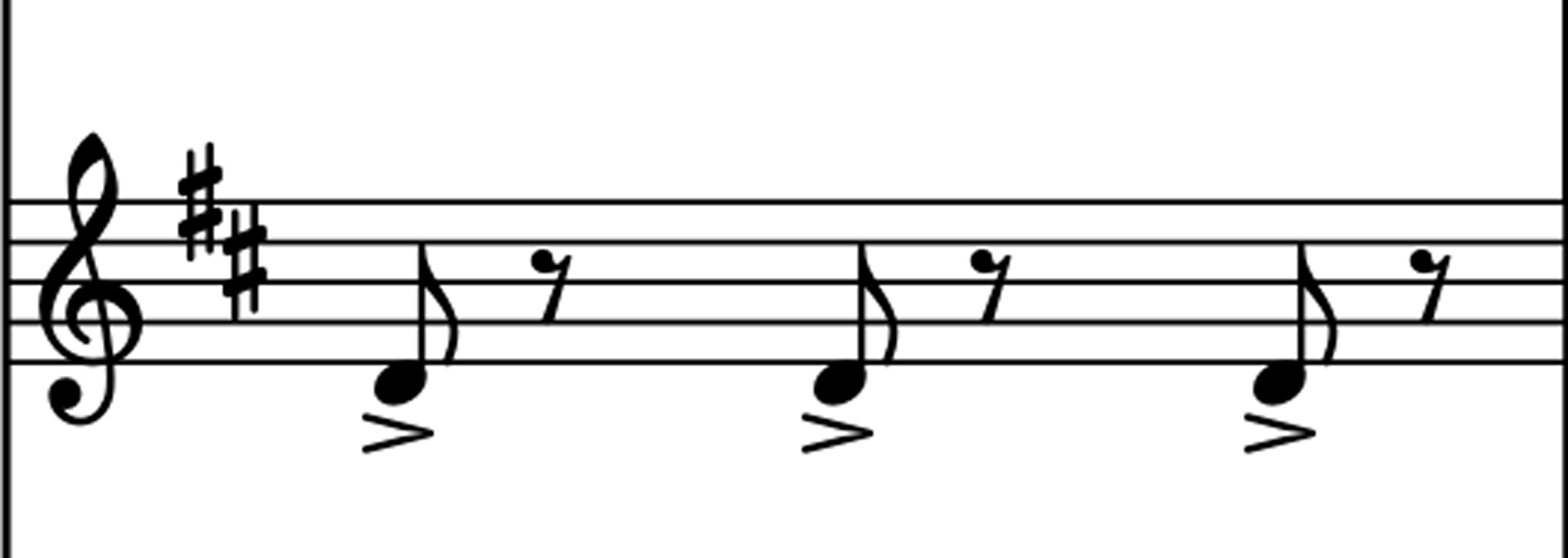articAccentBelow: (362, 414, 433, 452), (1244, 414, 1315, 452)
clefG: (20, 110, 152, 457)
flag16thUp: (859, 246, 896, 364)
keySharp: (222, 201, 266, 320)
noteheadBlackInSpace: (374, 360, 424, 403), (1253, 361, 1304, 403), (814, 361, 864, 403)
rest8th: (532, 251, 571, 323), (973, 251, 1011, 323), (1413, 251, 1450, 322)
restQuarter: (1414, 251, 1450, 323), (975, 251, 1011, 323)
